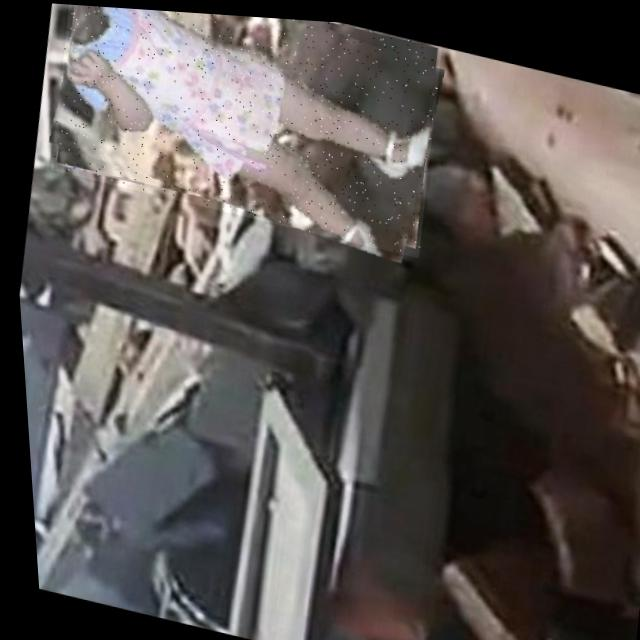Person in Rubble: (39, 2, 452, 253)
